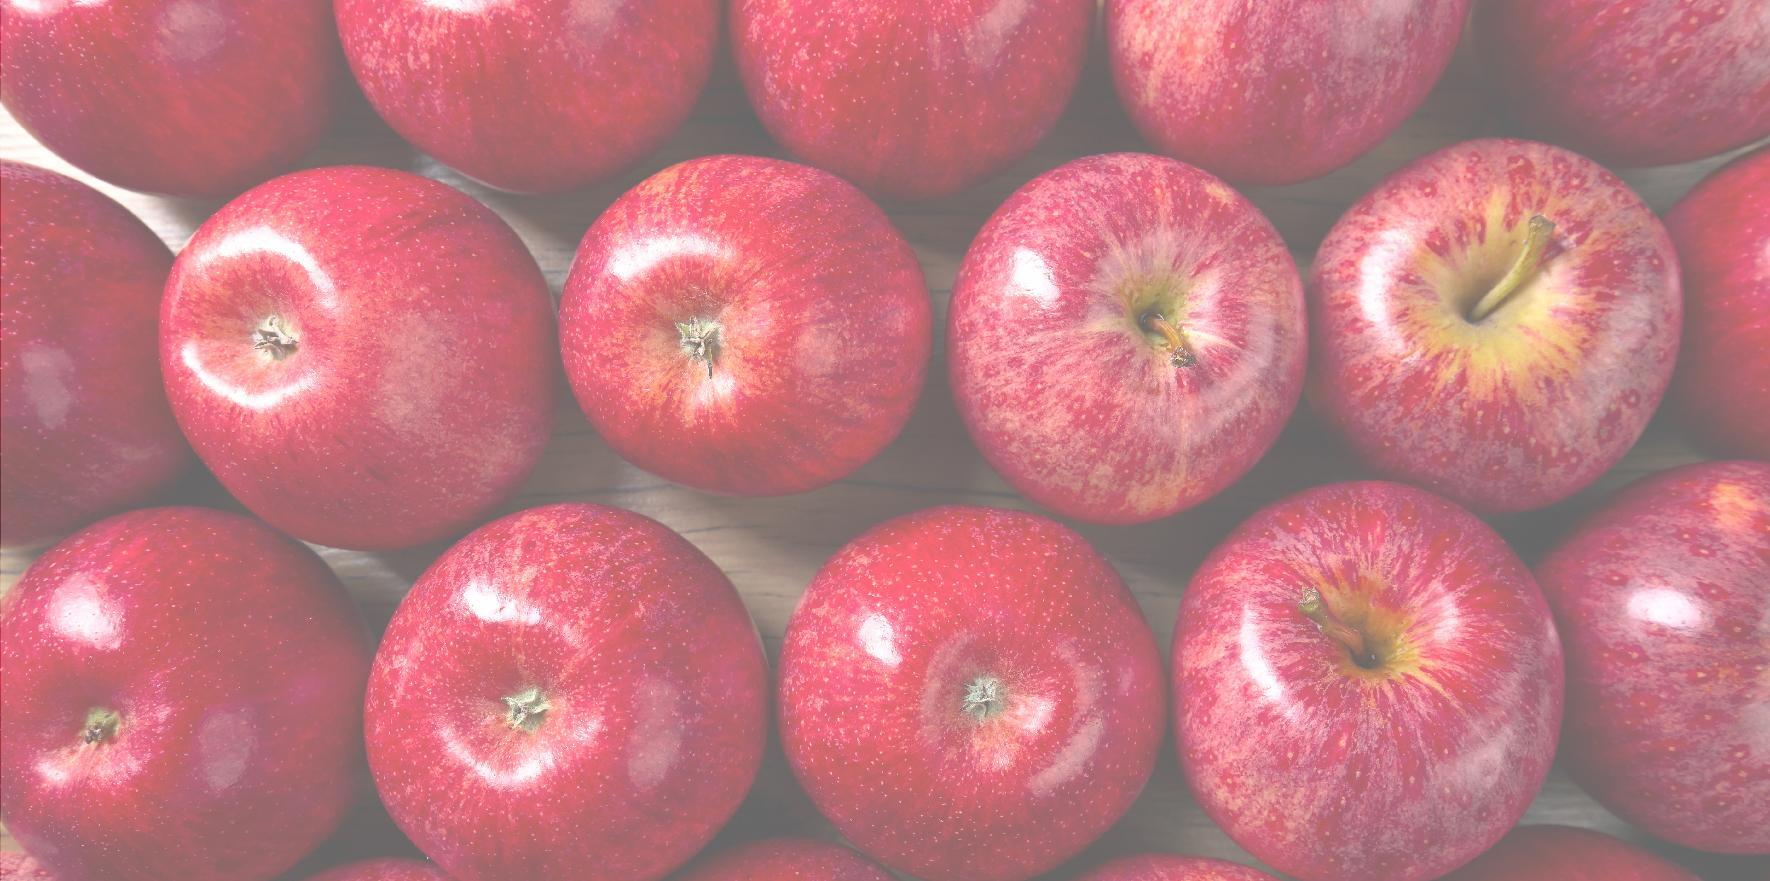apple: (157, 162, 561, 562), (1158, 486, 1553, 880), (352, 505, 763, 880), (1302, 130, 1689, 517), (1, 501, 389, 880), (778, 499, 1169, 871), (934, 151, 1303, 529), (566, 150, 934, 503), (1533, 456, 1763, 852), (730, 1, 1093, 207), (336, 2, 719, 197), (1099, 1, 1467, 193), (1493, 1, 1769, 162)
